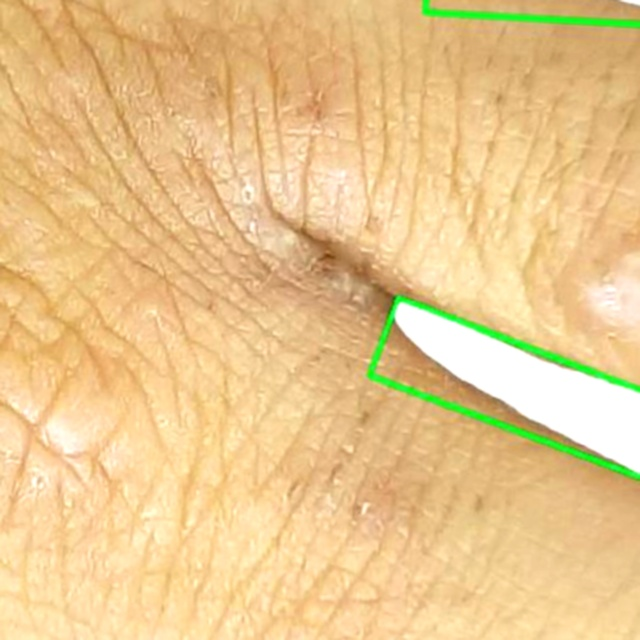Scabies: (367, 297, 639, 483)
